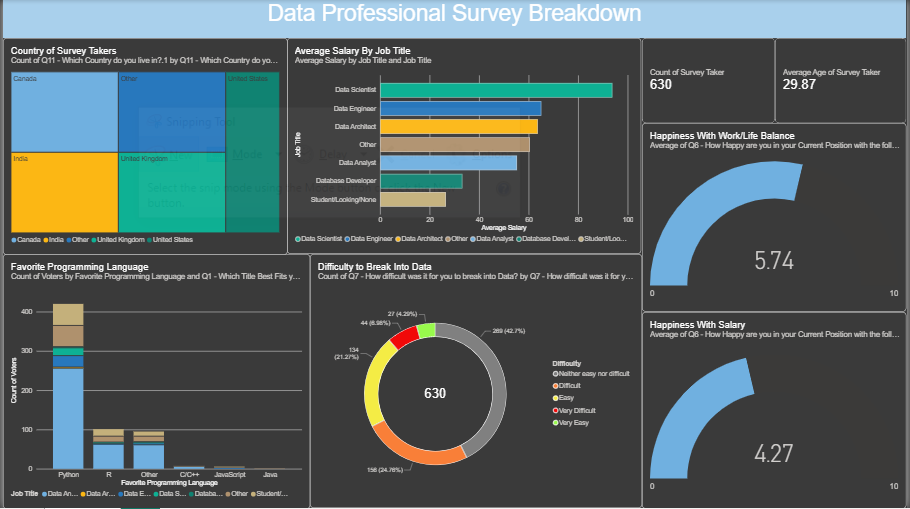

This screenshot's page, from the dashboard's own definition file:
{"tool":"powerbi","page":{"name":"Page 1","canvas":[1920,1080],"ordinal":0},"visuals":[{"type":"textbox","box":[0,0,1920,80.6],"z":0},{"type":"cardVisual","fields":{"Data":["Count(Data Professional Survey.Unique ID)"]},"box":[1358.1,80.6,282.2,181.4],"z":1000},{"type":"cardVisual","fields":{"Data":["Avg(Data Professional Survey.Q10 - Current Age)"]},"box":[1640.3,80.6,279.7,181.4],"z":2000},{"type":"barChart","title":"Average Salary By Job Title","fields":{"Category":["Data Professional Survey.Q1 - Which Title Best Fits your Current Role?.1"],"Series":["Data Professional Survey.Q1 - Which Title Best Fits your Current Role?.1"],"Y":["Avg(Data Professional Survey.Average Salary)"]},"box":[604.7,80.6,753.4,458.6],"z":3000},{"type":"columnChart","title":"Favorite Programming Language","fields":{"Category":["Data Professional Survey.Q5 - Favorite Programming Language.1"],"Series":["Data Professional Survey.Q1 - Which Title Best Fits your Current Role?.1"],"Y":["CountNonNull(Data Professional Survey.Unique ID)"]},"box":[0,539.2,652.6,541.7],"z":4000},{"type":"treemap","title":"Country of Survey Takers","fields":{"Group":["Data Professional Survey.Q11 - Which Country do you live in?.1"],"Values":["Count(Data Professional Survey.Q11 - Which Country do you live in?.1)"]},"box":[0,80.6,604.7,461.1],"z":5000},{"type":"gauge","title":"Happiness With Work/Life Balance","fields":{"MaxValue":["Max(Data Professional Survey.Q6 - How Happy are you in your Current Position with the following? (Work/Life Balance))2"],"MinValue":["Min(Data Professional Survey.Q6 - How Happy are you in your Current Position with the following? (Work/Life Balance))1"],"Y":["Avg(Data Professional Survey.Q6 - How Happy are you in your Current Position with the following? (Work/Life Balance))"]},"box":[1358.1,262,561.9,400.6],"z":5001},{"type":"gauge","title":"Happiness With Salary","fields":{"MaxValue":["Max(Data Professional Survey.Q6 - How Happy are you in your Current Position with the following? (Salary))"],"MinValue":["Min(Data Professional Survey.Q6 - How Happy are you in your Current Position with the following? (Salary))"],"Y":["Avg(Data Professional Survey.Q6 - How Happy are you in your Current Position with the following? (Salary))"]},"box":[1358.1,662.7,561.9,418.3],"z":5002},{"type":"donutChart","title":"Difficulty to Break Into Data","fields":{"Category":["Data Professional Survey.Q7 - How difficult was it for you to break into Data?"],"Y":["CountNonNull(Data Professional Survey.Q7 - How difficult was it for you to break into Data?)"]},"box":[652.7,540,705.8,540],"z":5003}]}

Visuals, with their boxes in screenshot pixels (x1, y1, x2, y2), scaled from the page's 1920x1080 canvas onto the 910x509 screenshot:
textbox: region(0, 0, 909, 38)
cardVisual - Count(Data Professional Survey.Unique ID): region(644, 38, 777, 123)
cardVisual - Avg(Data Professional Survey.Q10 - Current Age): region(777, 38, 909, 123)
"Average Salary By Job Title" barChart: region(287, 38, 644, 254)
"Favorite Programming Language" columnChart: region(0, 254, 309, 508)
"Country of Survey Takers" treemap: region(0, 38, 287, 255)
"Happiness With Work/Life Balance" gauge: region(644, 123, 909, 312)
"Happiness With Salary" gauge: region(644, 312, 909, 508)
"Difficulty to Break Into Data" donutChart: region(309, 254, 644, 508)
